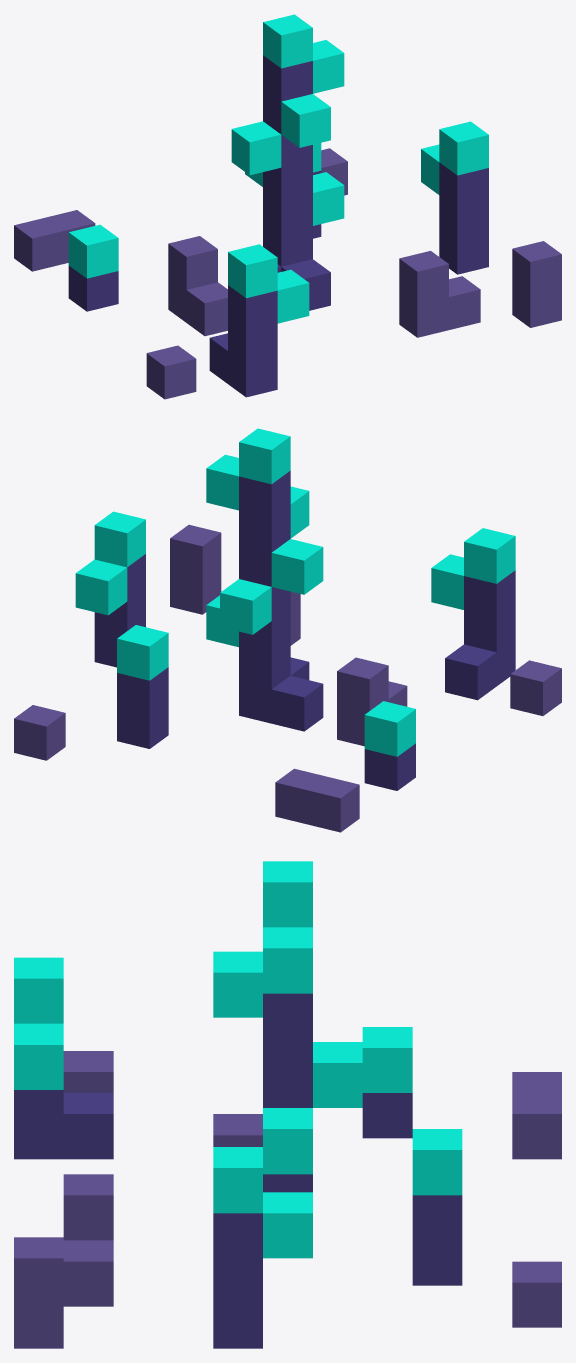
The model's file is LunaFlower2.obj.
3 views of the same model, one above another, from view 1: azimuth 30°, elevation 25°; view 2: azimuth 150°, elevation 25°; view 3: azimuth 270°, elevation 25° (orthographic). The views are drawn at different scales.
Parts seen in each view (by area): view 1: LunaFlower2; view 2: LunaFlower2; view 3: LunaFlower2.
Part boxes in pixels (left/top/right/bottom): LunaFlower2: left=14, top=14, right=561, bottom=399; LunaFlower2: left=14, top=428, right=561, bottom=832; LunaFlower2: left=14, top=861, right=561, bottom=1348.
Size of the model in its own units: 12 by 8 by 11.
Materials: 1 (1 with a texture image).
